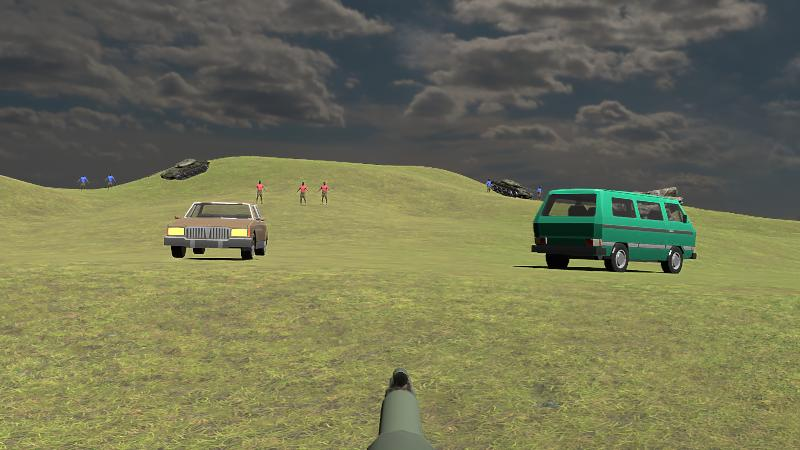Tank: (158, 157, 210, 181)
car: (532, 188, 698, 275), (163, 200, 268, 261)
